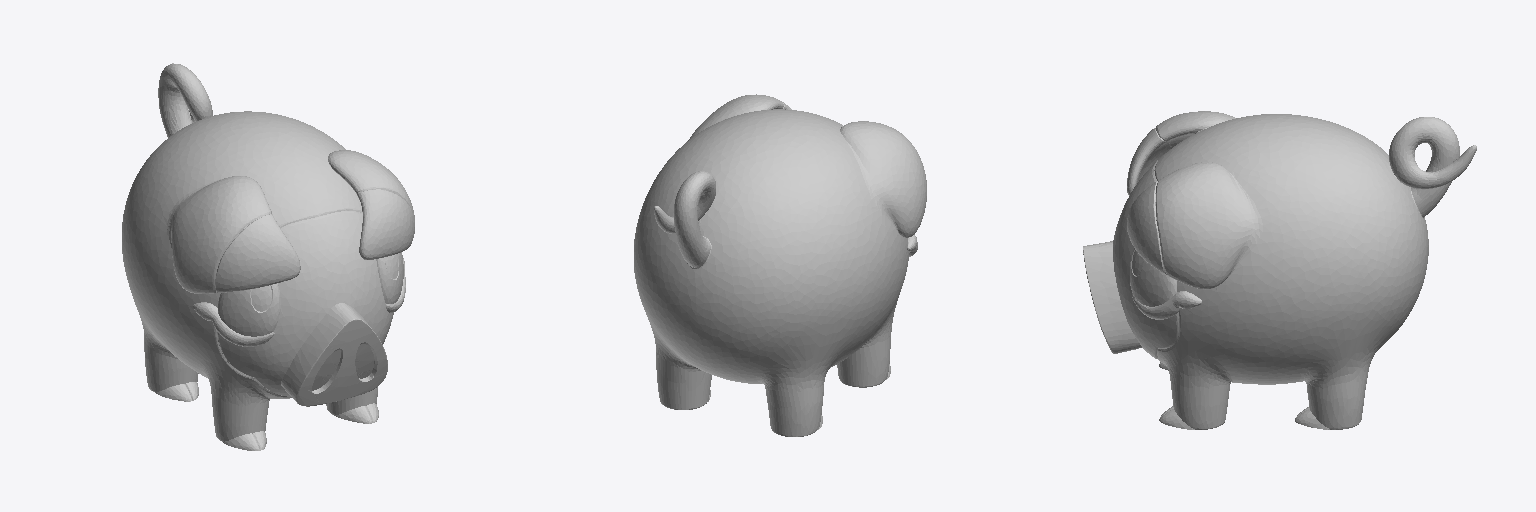
Rendered from pig2.obj.
3 views of the same model, side by side, from view 1: azimuth 30°, elevation 25°; view 2: azimuth 150°, elevation 25°; view 3: azimuth 270°, elevation 25° (orthographic).
Parts seen in each view (by area): view 1: obj1; view 2: obj1; view 3: obj1.
Part boxes in pixels (x1,y1,x2,y2): obj1: (122,63,414,450); obj1: (634,94,926,436); obj1: (1083,111,1476,429).
Size of the model in its own units: 8.57 by 9.98 by 13.02.